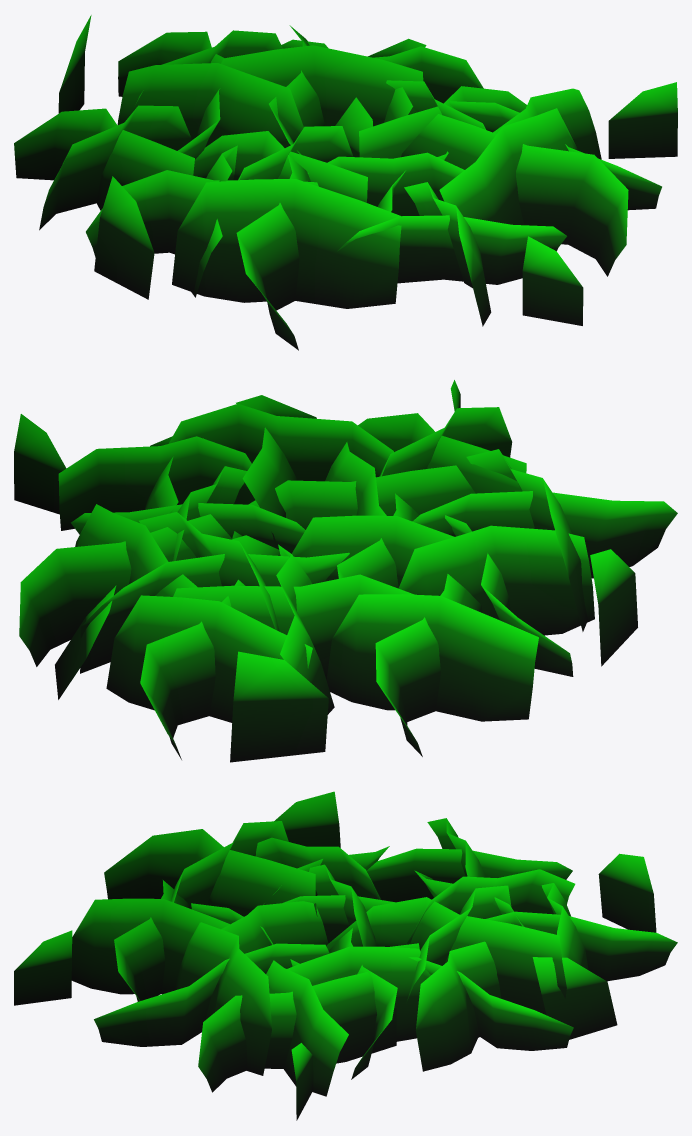
Rendered from SM_FieldGrass_01.FBX.
3 views of the same model, one above another, from view 1: azimuth 30°, elevation 25°; view 2: azimuth 150°, elevation 25°; view 3: azimuth 270°, elevation 25° (orthographic). The views are drawn at different scales.
Visible parts, largest first — view 1: SM_FieldGrass_01_LOD0; view 2: SM_FieldGrass_01_LOD0; view 3: SM_FieldGrass_01_LOD0.
Boxes of the visible parts, x1,y1,x2,y2 form: SM_FieldGrass_01_LOD0: [14, 15, 677, 350]; SM_FieldGrass_01_LOD0: [14, 380, 677, 762]; SM_FieldGrass_01_LOD0: [14, 791, 677, 1120].
Size of the model in its own units: 106 by 120 by 20.43.
